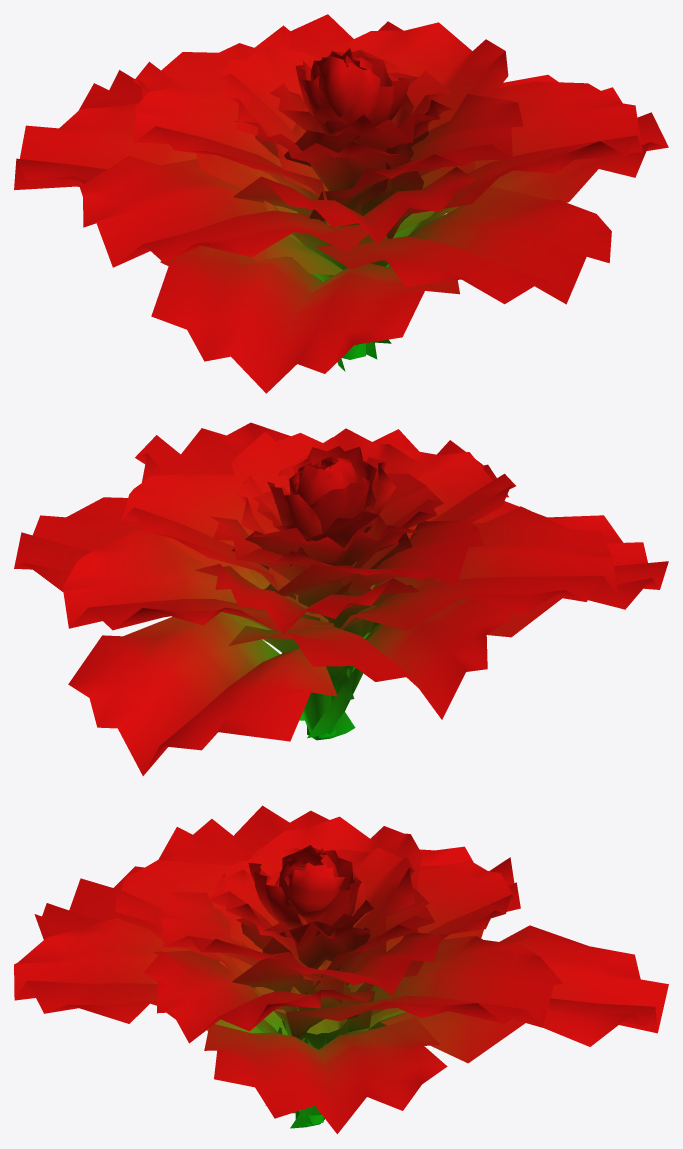
The model's file is Purple Ornamental Kale_LOD1_Var2_ugdieawja.fbx.
The picture shows the model from 3 angles, top to bottom: view 1: azimuth 30°, elevation 25°; view 2: azimuth 150°, elevation 25°; view 3: azimuth 270°, elevation 25°; orthographic projection. The views are drawn at different scales.
Parts seen in each view (by area): view 1: _83aa_Var2_LOD1; view 2: _83aa_Var2_LOD1; view 3: _83aa_Var2_LOD1.
Part boxes in pixels (x1,y1,x2,y2): _83aa_Var2_LOD1: (14,14,668,393); _83aa_Var2_LOD1: (14,422,668,775); _83aa_Var2_LOD1: (14,805,668,1134).
Size of the model in its own units: 56.29 by 27.86 by 61.61.
